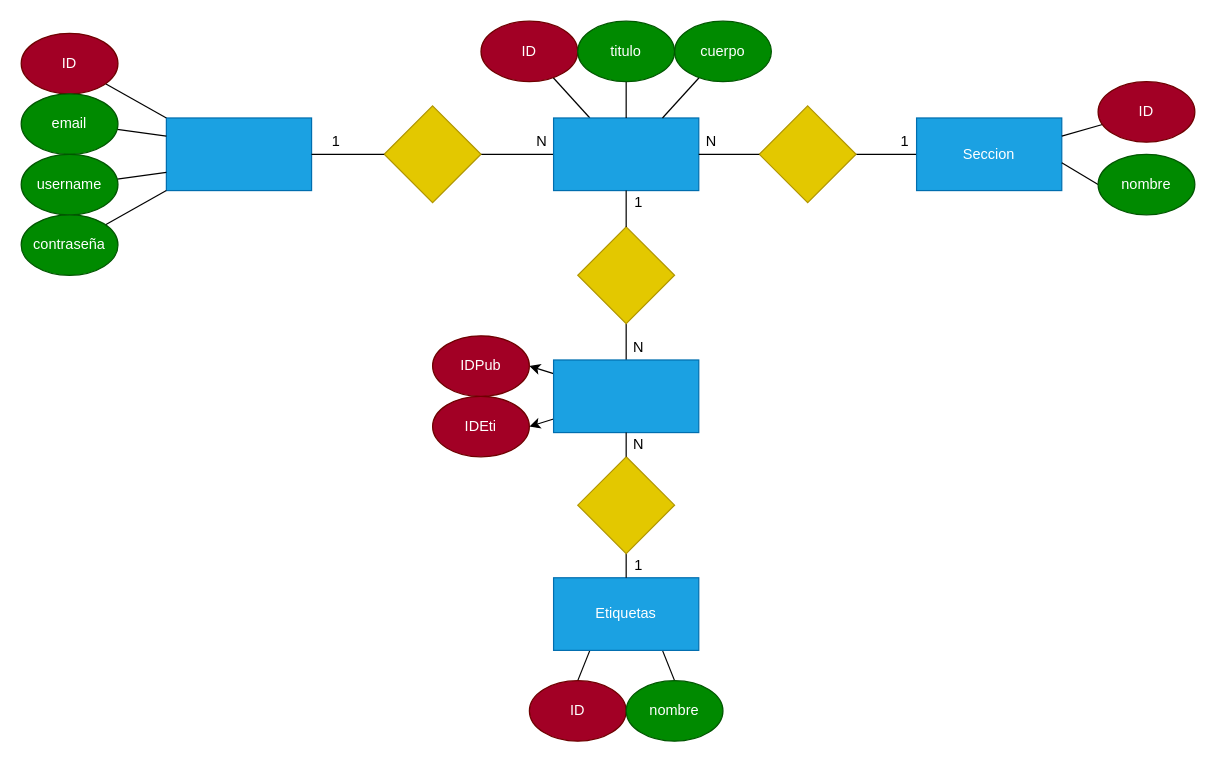
Image size: 1216x762. Some labels were removed from this diagram. Each missing label, with the centre of its shape:
Publicaciones: the point at 625,154
PublicacionEtiqueta: the point at 625,396
Usuario: the point at 238,154
